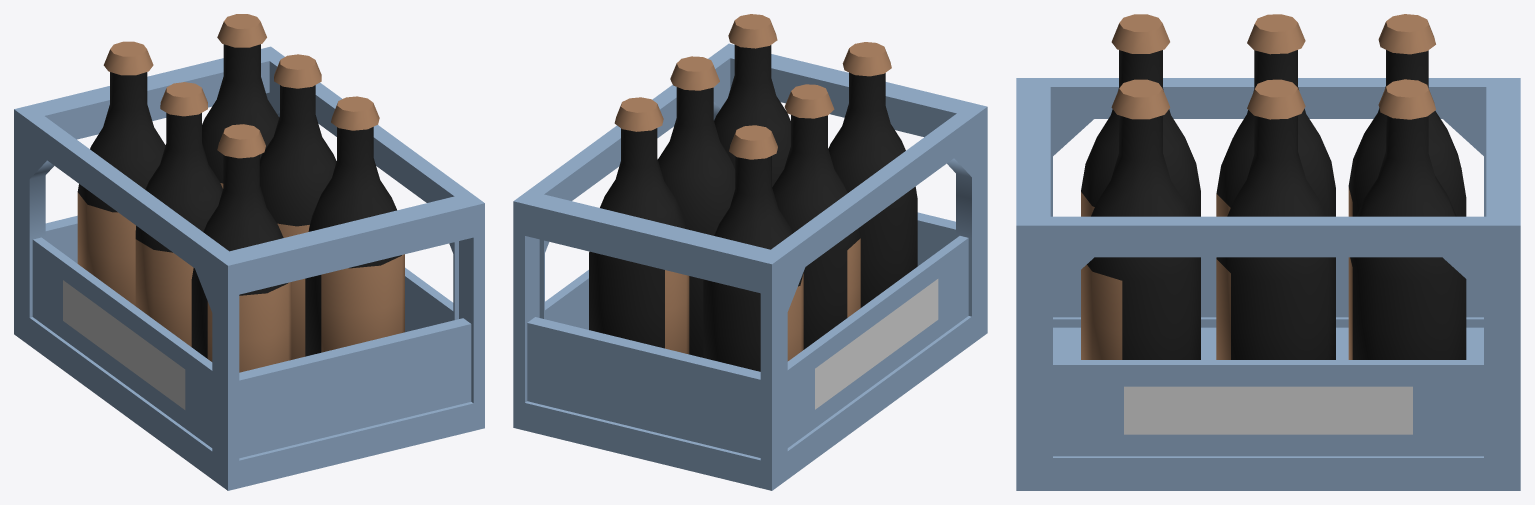
The model's file is Environment_Bottles.glb.
3 views of the same model, side by side, from view 1: azimuth 30°, elevation 25°; view 2: azimuth 150°, elevation 25°; view 3: azimuth 270°, elevation 25° (orthographic). The views are drawn at different scales.
Visible parts, largest first — view 1: Environment_Bottles; view 2: Environment_Bottles; view 3: Environment_Bottles.
Boxes of the visible parts, <box> form: Environment_Bottles: <box>14,14,484,490</box>; Environment_Bottles: <box>513,14,987,490</box>; Environment_Bottles: <box>1016,14,1520,490</box>.
Size of the model in its own units: 0.9032 by 1.02 by 1.3.
1 material, 1 textured.
